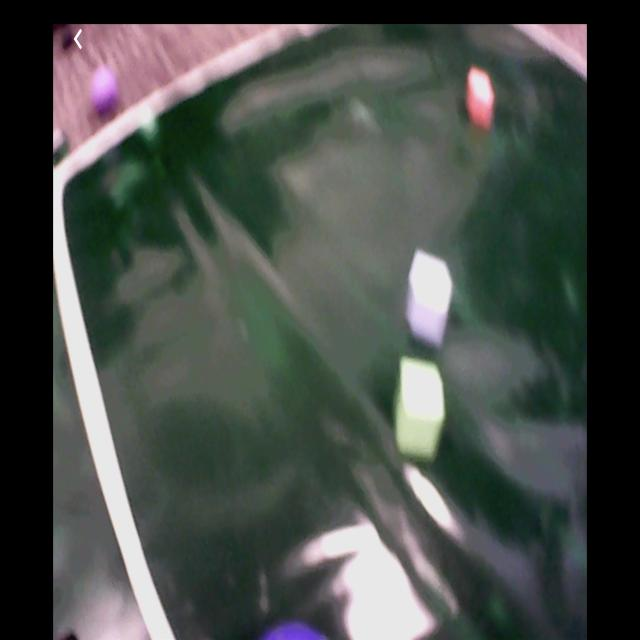ball: (91, 69, 119, 114), (265, 622, 331, 640)
